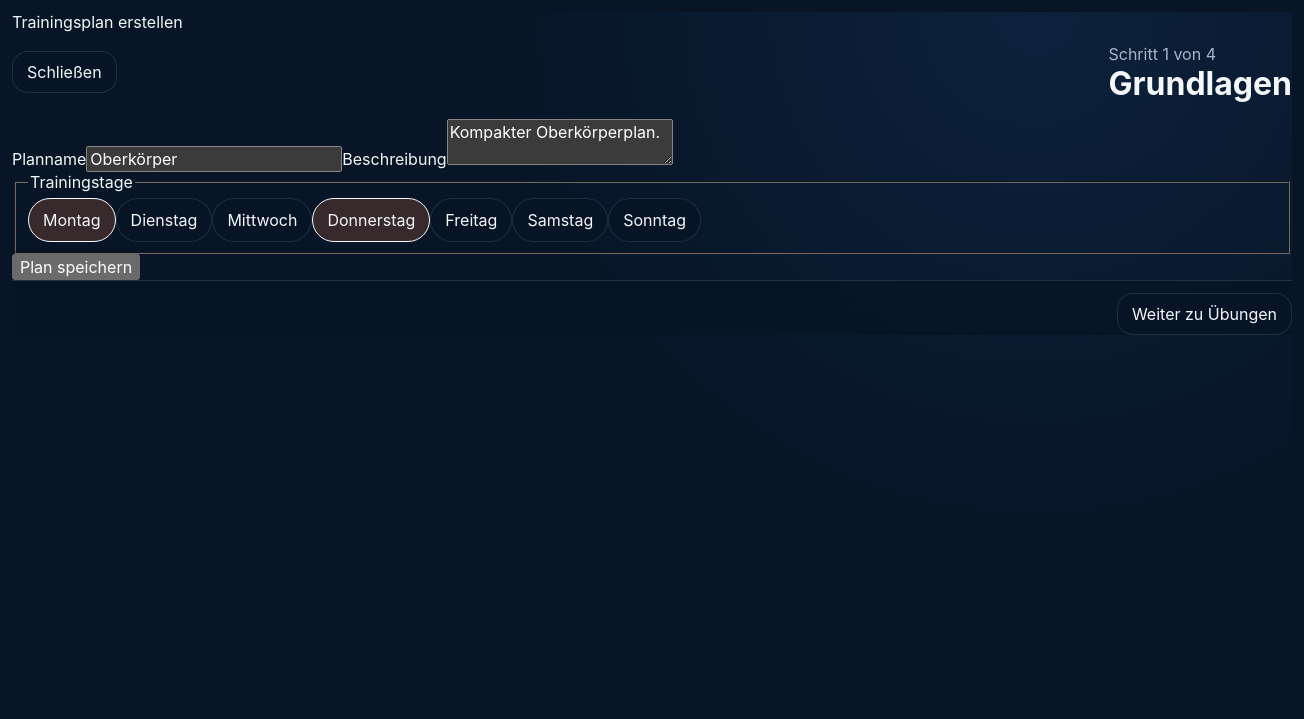
Test: TrainingPlanWizardPage › shows edited optional start weight and grip exactly in preview
Click the button "Weiter zu Übungen".
click(1204, 314)  # box [1117,293,1292,335]
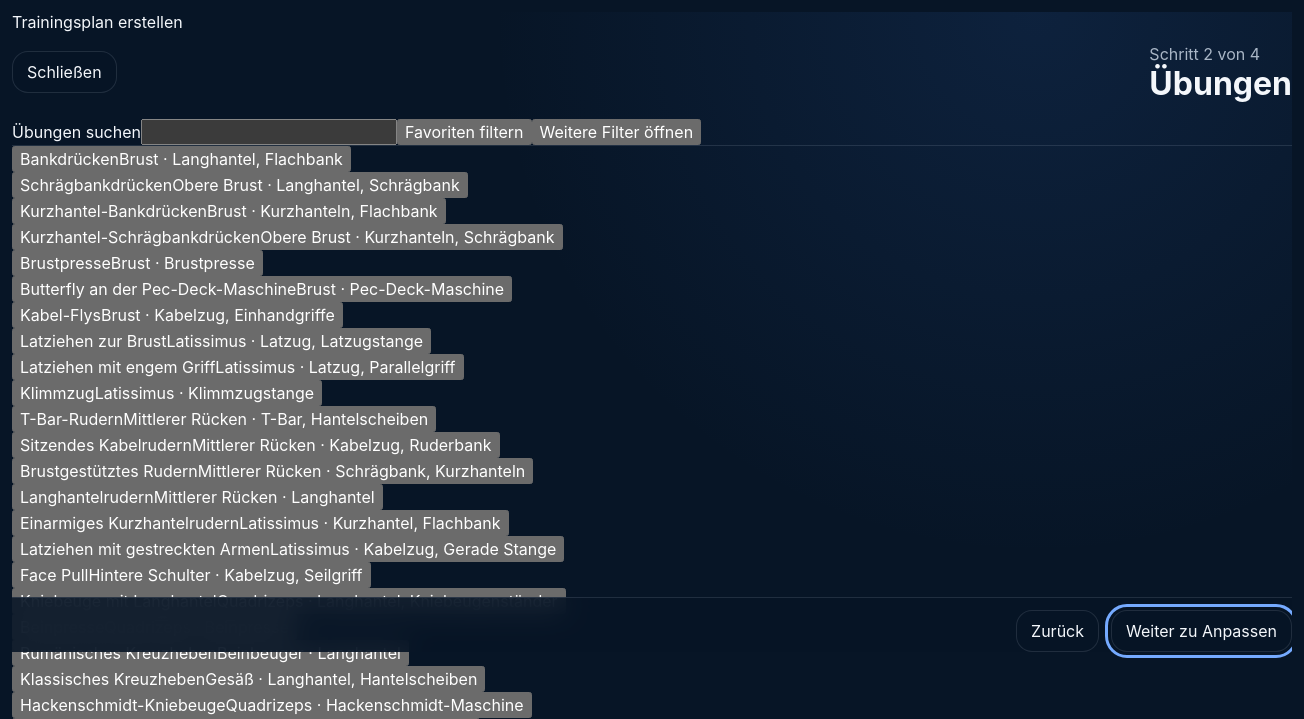
Click the button "Weiter zu Anpassen".
click(1202, 631)  # box [1111,610,1292,652]
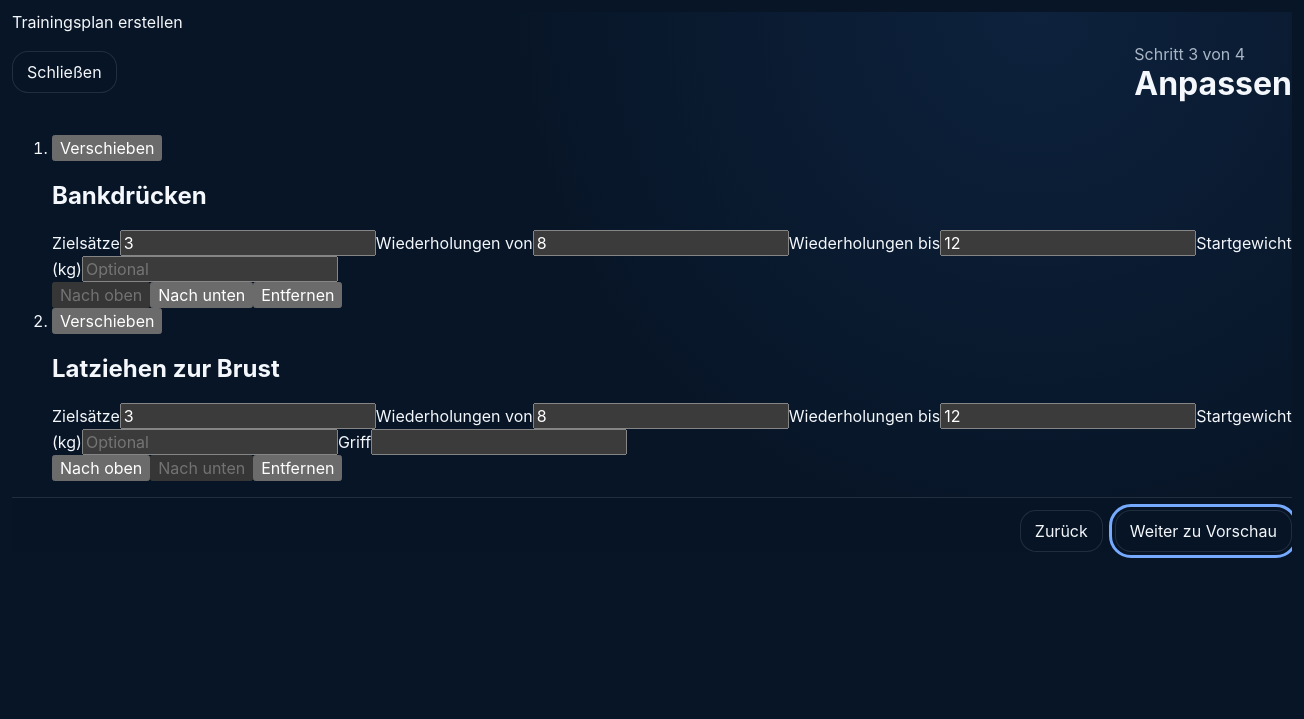
Type "60" into the number field named "Startgewicht für Latziehen zur Brust".
click(210, 442); type("60")  # box [82,429,338,455]
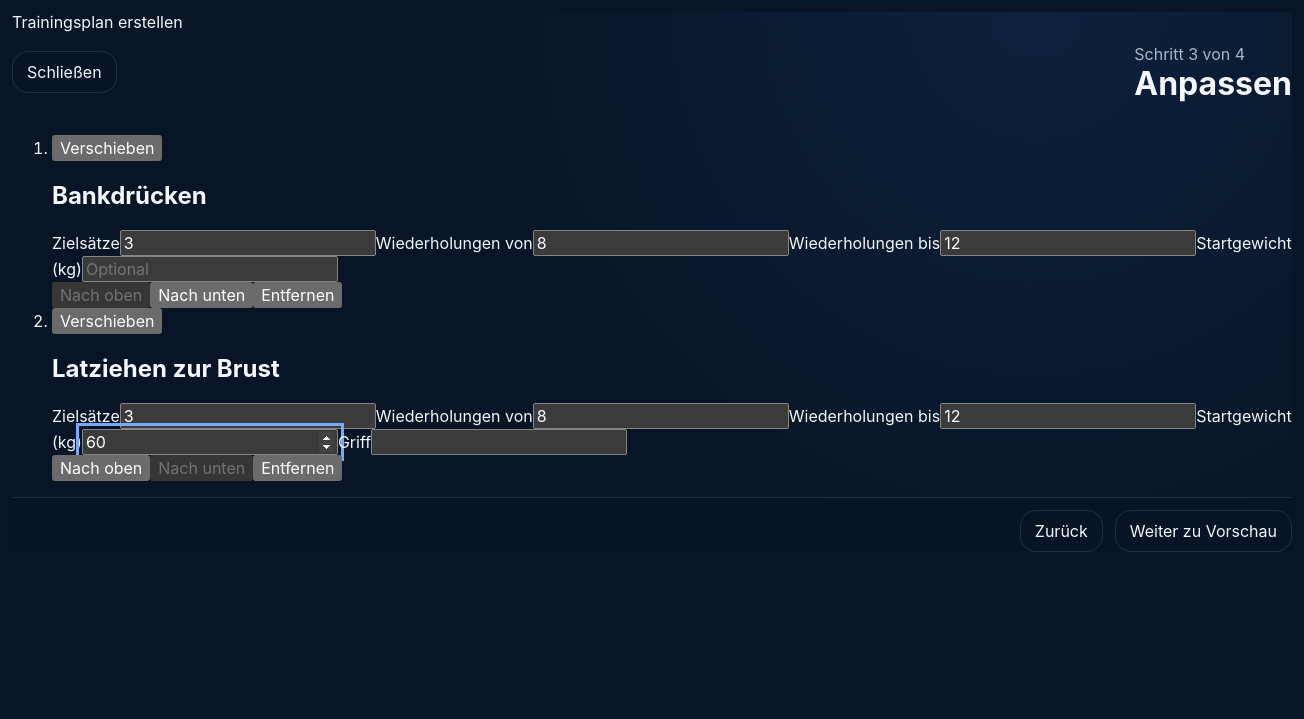
Type "Neutral" into the field named "Griff für Latziehen zur Brust".
click(499, 442); type("Neutral")  # box [371,429,627,455]
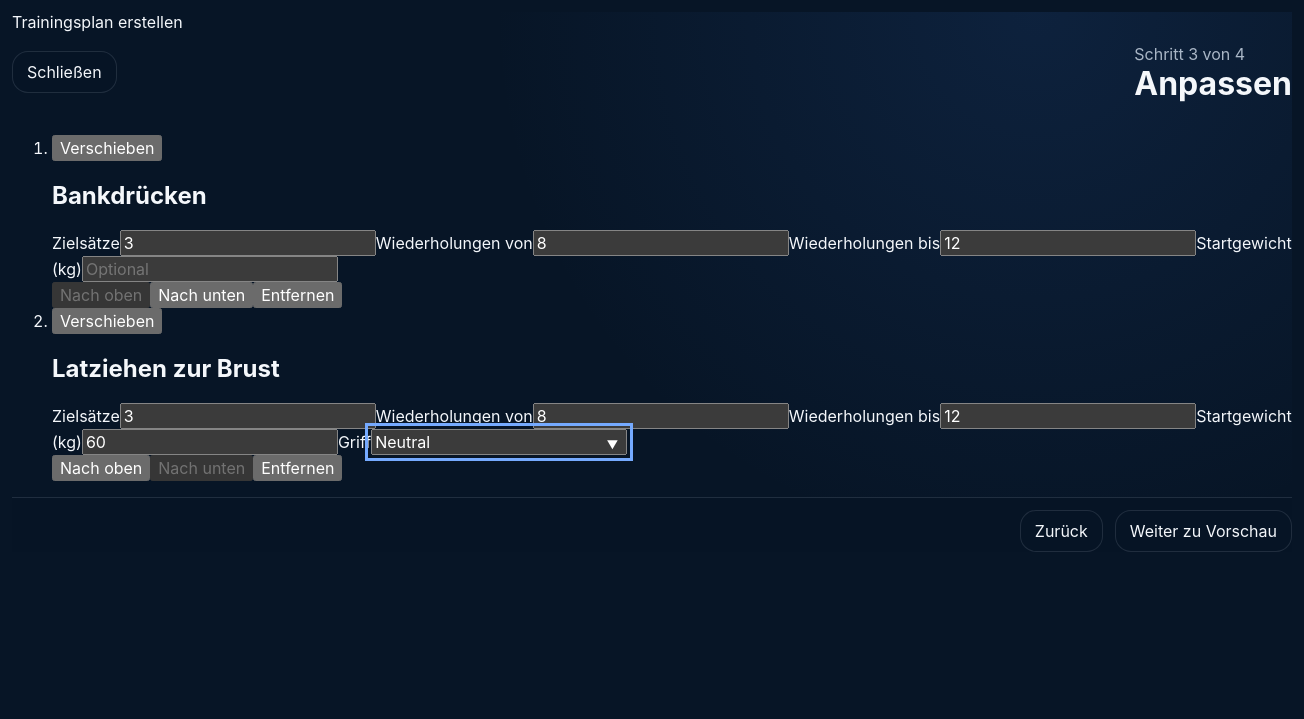
Click the button "Weiter zu Vorschau".
click(1203, 531)  # box [1115,510,1292,552]
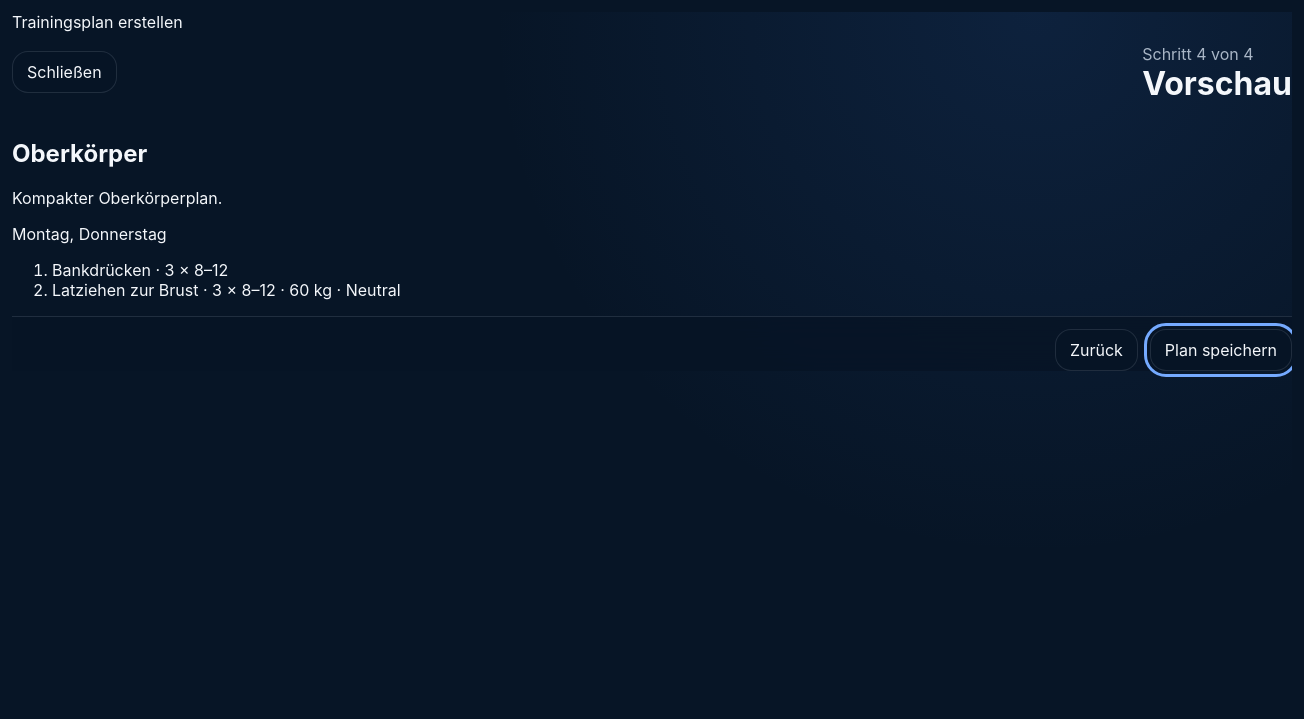
Now the element named "Planvorschau" shows "60 kg", box [52,280,401,300]
Now the element named "Planvorschau" shows "Neutral", box [52,280,401,300]
